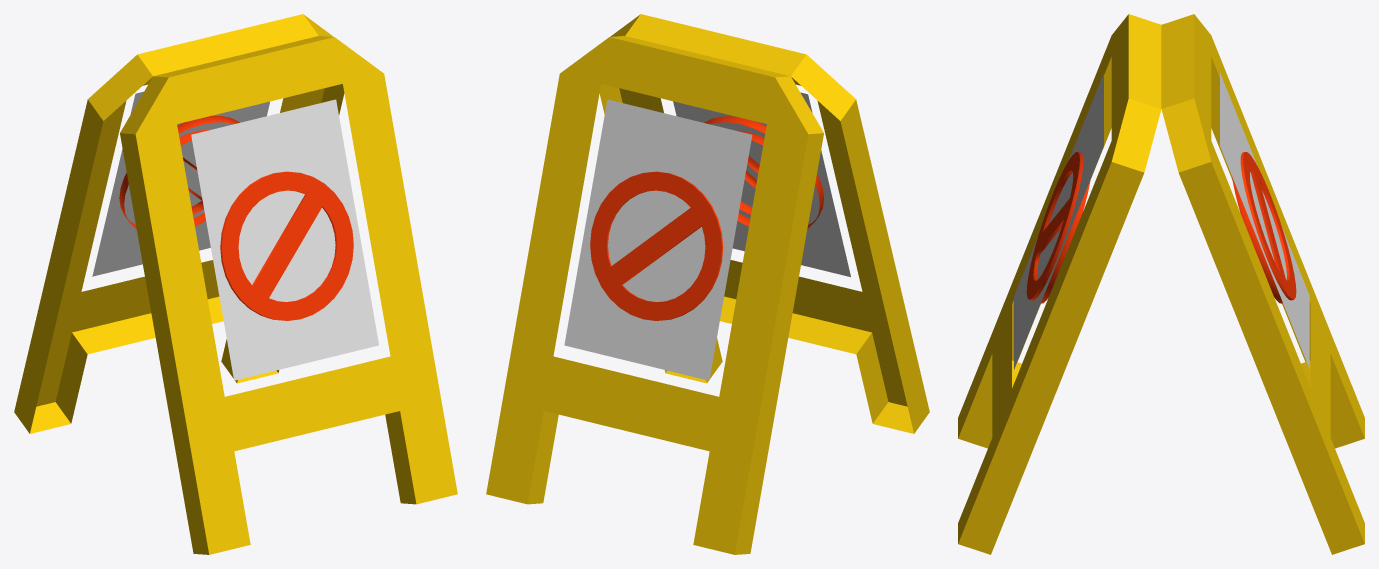
Rendered from SafeSign.fbx.
The picture shows the model from 3 angles, left to right: view 1: azimuth 30°, elevation 25°; view 2: azimuth 150°, elevation 25°; view 3: azimuth 270°, elevation 25°; orthographic projection. The views are drawn at different scales.
Visible parts, largest first — view 1: Cube; view 2: Cube; view 3: Cube.
Part boxes in pixels (x1,y1,x2,y2): Cube: (14,14,457,554); Cube: (486,14,929,554); Cube: (958,14,1364,554).
Size of the model in its own units: 60 by 96.36 by 81.56.
